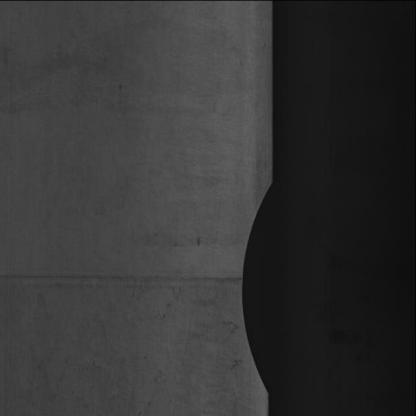crescent_gap: (235, 172, 290, 402)
welding_line: (0, 253, 250, 286)
